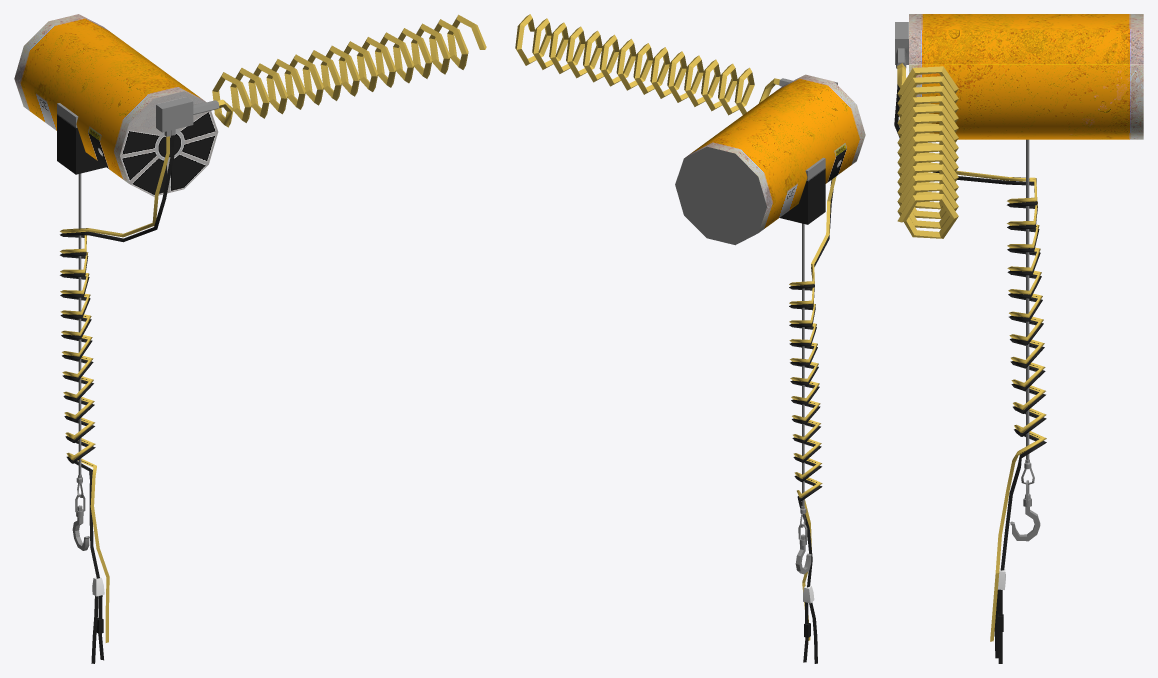
The model's file is fadong.FBX.
The picture shows the model from 3 angles, left to right: view 1: azimuth 30°, elevation 25°; view 2: azimuth 150°, elevation 25°; view 3: azimuth 270°, elevation 25°; orthographic projection. The views are drawn at different scales.
Visible parts, largest first — view 1: YF_Model_fadong; view 2: YF_Model_fadong; view 3: YF_Model_fadong.
Part boxes in pixels (box(x1,y1,x2,y2)): YF_Model_fadong: box(14, 14, 486, 663); YF_Model_fadong: box(515, 14, 865, 663); YF_Model_fadong: box(894, 14, 1143, 663).
Bounding box in the file's own units: 260 × 400 × 138.
